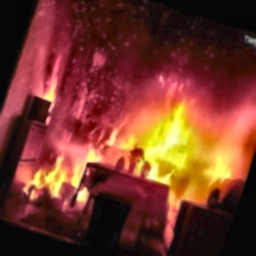fire: (0, 3, 256, 256)
